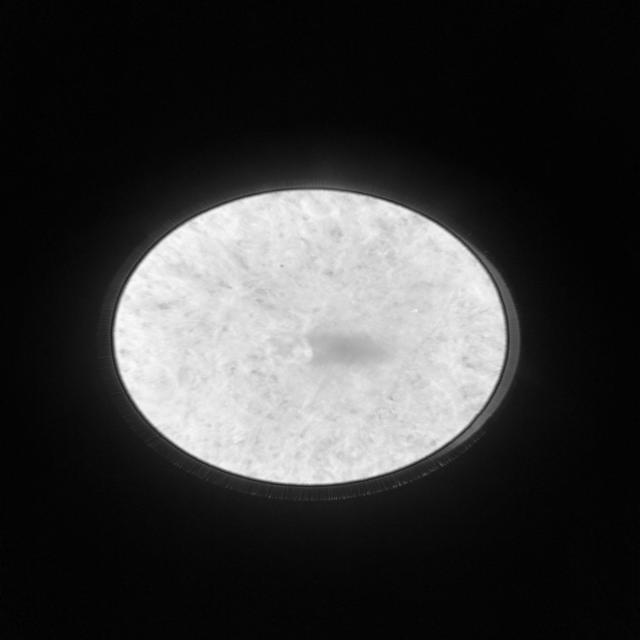microplastic_type_1: (264, 333, 315, 364)
